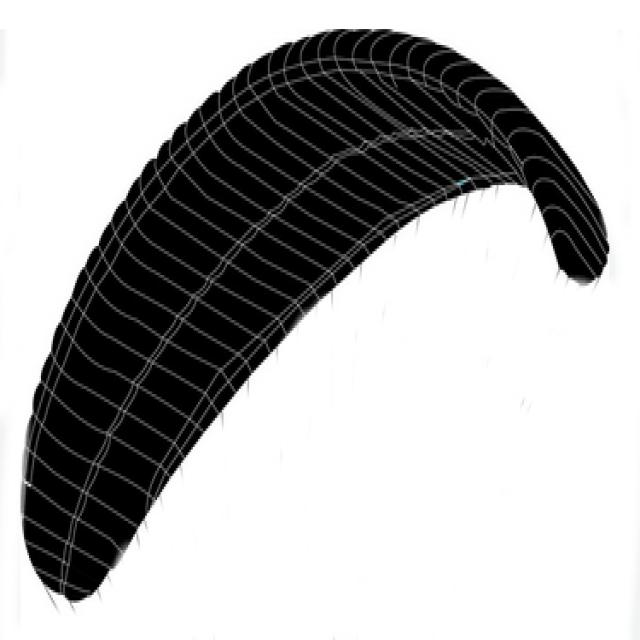paraglider: (19, 24, 609, 608)
